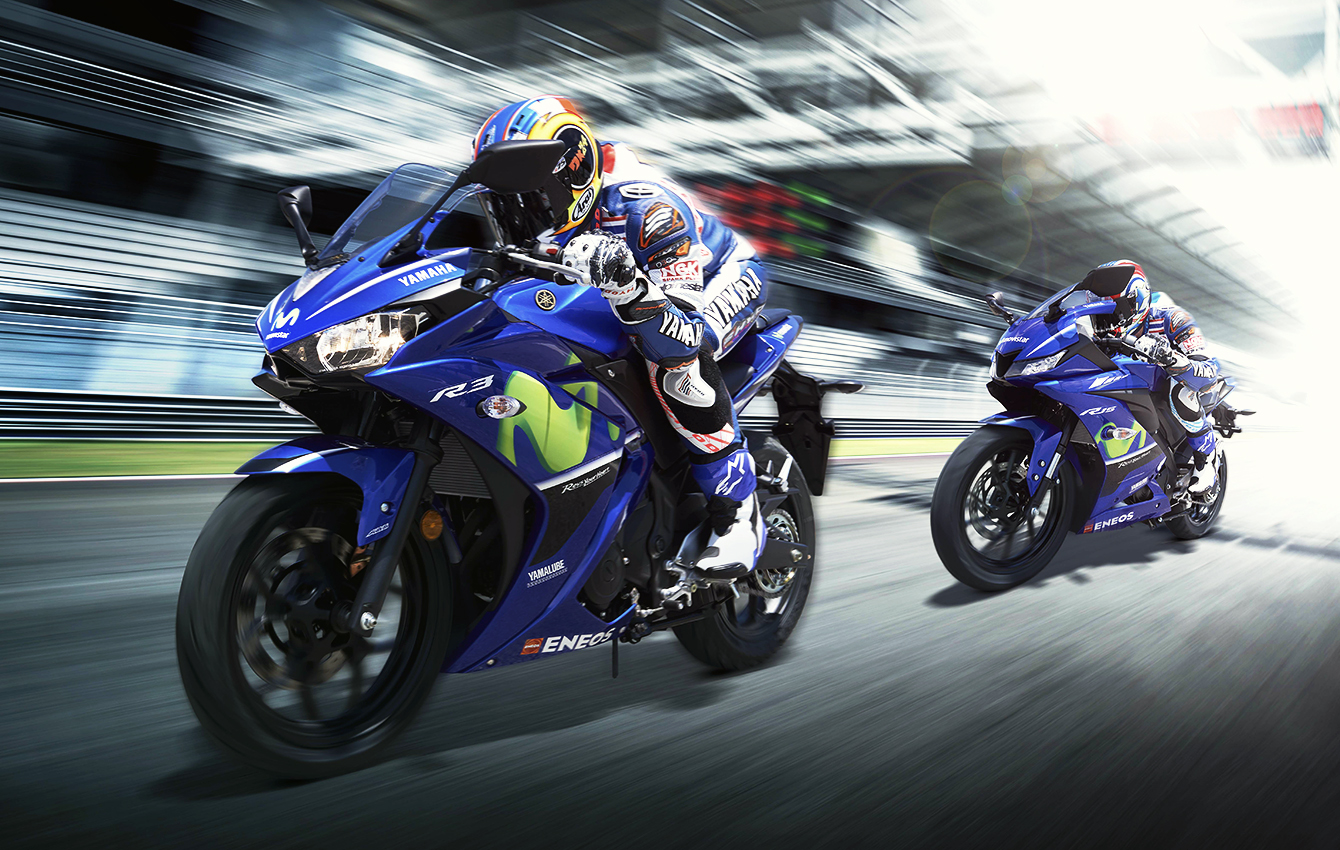helmet: (473, 85, 605, 176)
